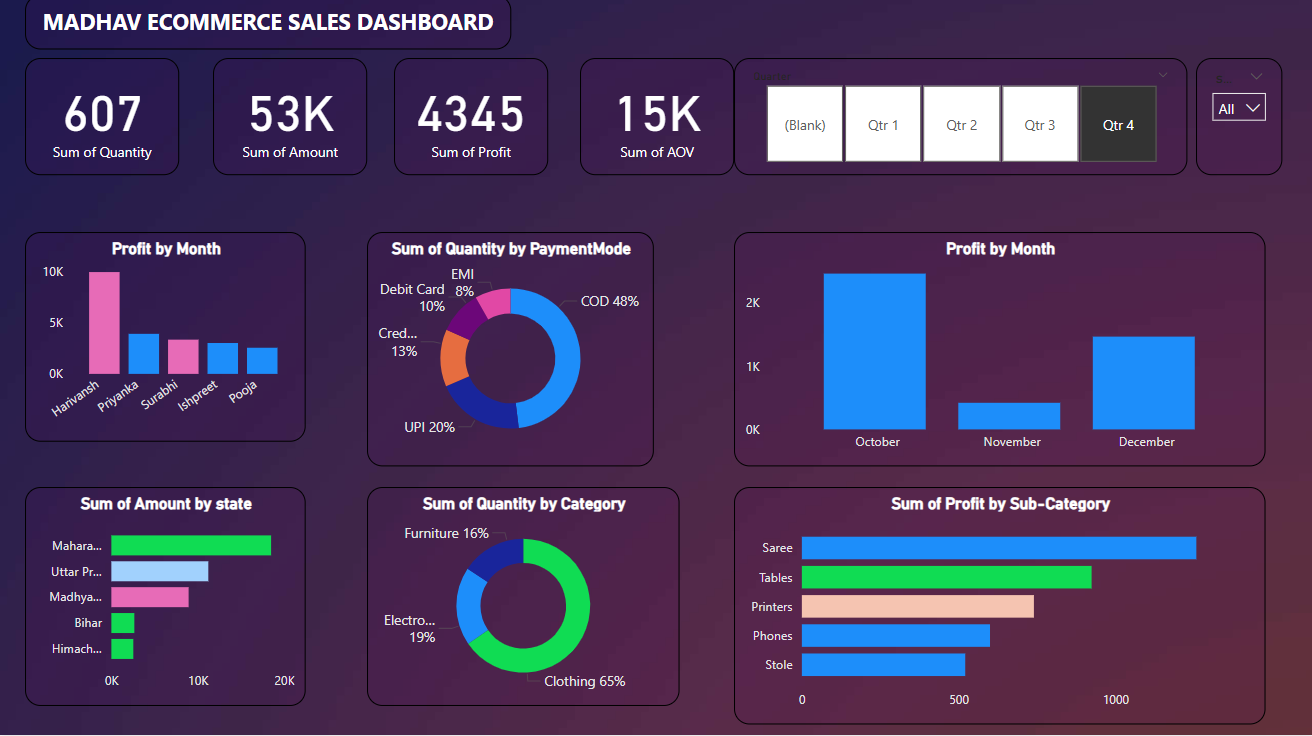

The dashboard page shown, as its layout file describes it:
{"tool":"powerbi","page":{"name":"Page 1","canvas":[1280,720],"ordinal":0},"visuals":[{"type":"textbox","box":[25,0,473,53],"z":0},{"type":"columnChart","title":"Profit by Month","fields":{"Y":["Details.Profit"],"Category":["Orders.order date.Variation.Date Hierarchy.Month"]},"box":[715,231,517,228],"z":1000},{"type":"barChart","fields":{"Category":["Details.Sub-Category"],"Y":["Details.Profit"]},"box":[715,479,517,231],"z":2000},{"type":"donutChart","fields":{"Category":["Details.Category"],"Y":["Details.Quantity"]},"box":[358,479,304,213],"z":3000},{"type":"donutChart","fields":{"Y":["Details.Quantity"],"Category":["Details.PaymentMode"]},"box":[358,231,279,228],"z":4000},{"type":"card","fields":{"Values":["Details.Amount"]},"box":[208,61,150,114],"z":5000},{"type":"card","fields":{"Values":["Details.Profit"]},"box":[384,61,150,114],"z":6000},{"type":"card","fields":{"Values":["Details.Quantity"]},"box":[25,61,150,114],"z":7000},{"type":"card","fields":{"Values":["Details.AOV"]},"box":[565,61,150,114],"z":8000},{"type":"barChart","fields":{"Category":["Orders.state"],"Y":["Details.Amount"]},"box":[25,479,273,213],"z":9000},{"type":"columnChart","title":"Profit by Month","fields":{"Category":["Orders.coustmer name"],"Y":["Details.Amount"]},"box":[25,231,273,204],"z":10000},{"type":"slicer","fields":{"Values":["Orders.order date.Variation.Date Hierarchy.Quarter"]},"box":[715,61,441,114],"z":11000},{"type":"slicer","fields":{"Values":["Orders.state"]},"box":[1164,61,84,114],"z":12000}]}

Visuals, with their boxes in screenshot pixels (x1, y1, x2, y2), scaled from the page's 1280x720 canvas onto the 1312x736 screenshot:
textbox: detection(26, 0, 510, 54)
"Profit by Month" columnChart: detection(733, 236, 1263, 469)
barChart - Details.Sub-Category x Details.Profit: detection(733, 490, 1263, 726)
donutChart - Details.Category x Details.Quantity: detection(367, 490, 679, 707)
donutChart - Details.Quantity x Details.PaymentMode: detection(367, 236, 653, 469)
card - Details.Amount: detection(213, 62, 367, 179)
card - Details.Profit: detection(394, 62, 547, 179)
card - Details.Quantity: detection(26, 62, 179, 179)
card - Details.AOV: detection(579, 62, 733, 179)
barChart - Orders.state x Details.Amount: detection(26, 490, 305, 707)
"Profit by Month" columnChart: detection(26, 236, 305, 445)
slicer - Orders.order date.Variation.Date Hierarchy.Quarter: detection(733, 62, 1185, 179)
slicer - Orders.state: detection(1193, 62, 1279, 179)
